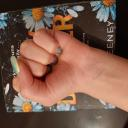Fist: (11, 23, 83, 107)
